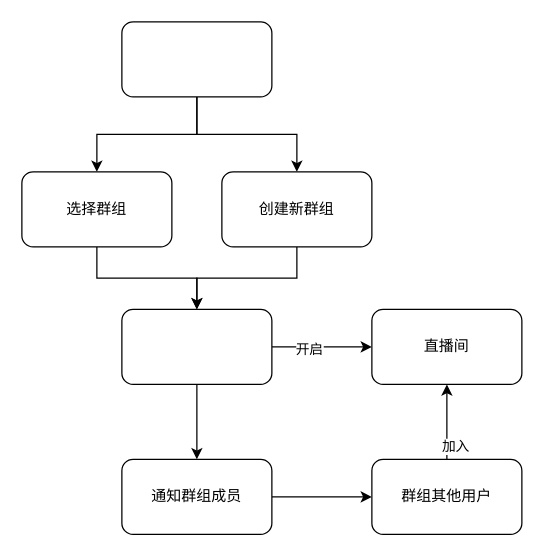
Image size: 544x556. Some labels were removed from this diagram. The centre of each missing label's shape, as x and y in pixels:
开启直播: the point at 196,346
教师用户: the point at 196,59
